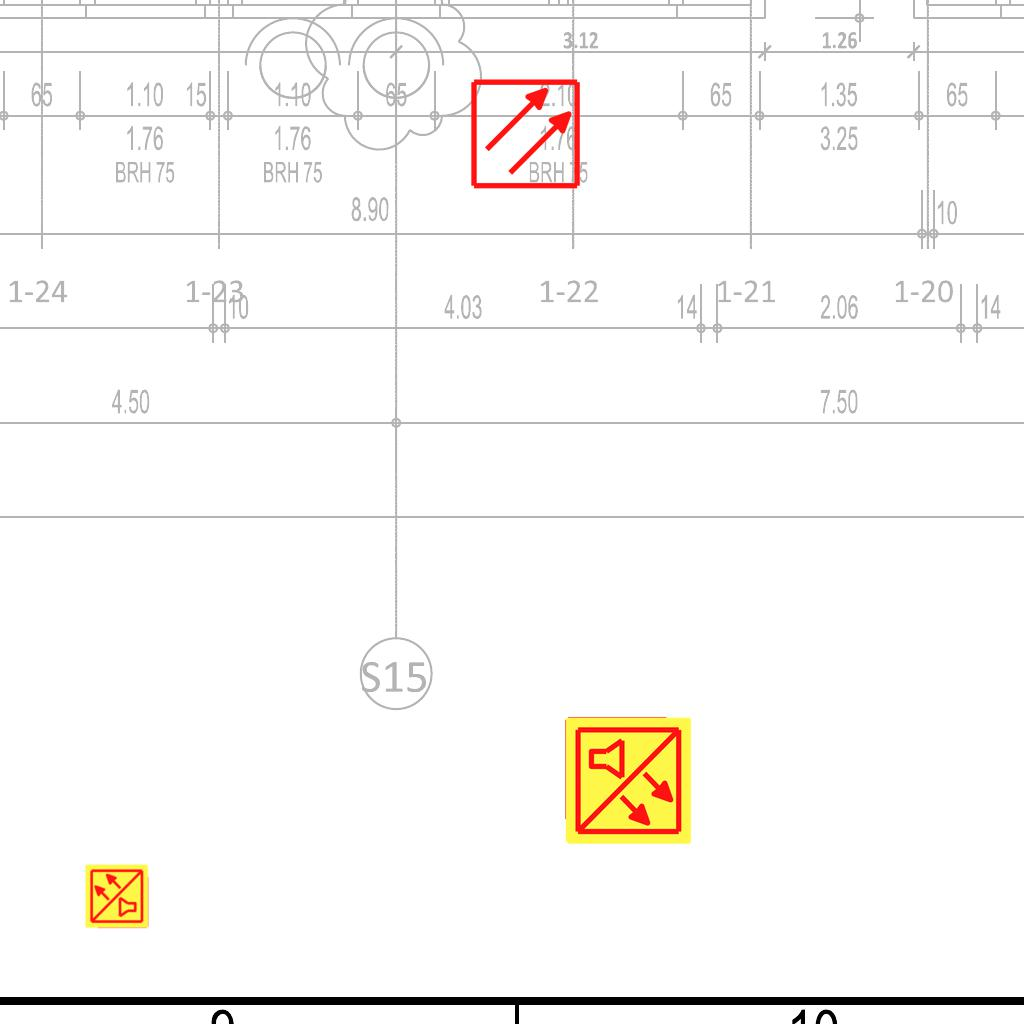OKW_Multisensormelder_(Kombination_optischer_Rauch-Kahlenmonoxid_Waerme-Melder): (562, 715, 694, 847), (84, 863, 150, 929)
RMO_Rauchmelder_optischer: (469, 77, 582, 190)
